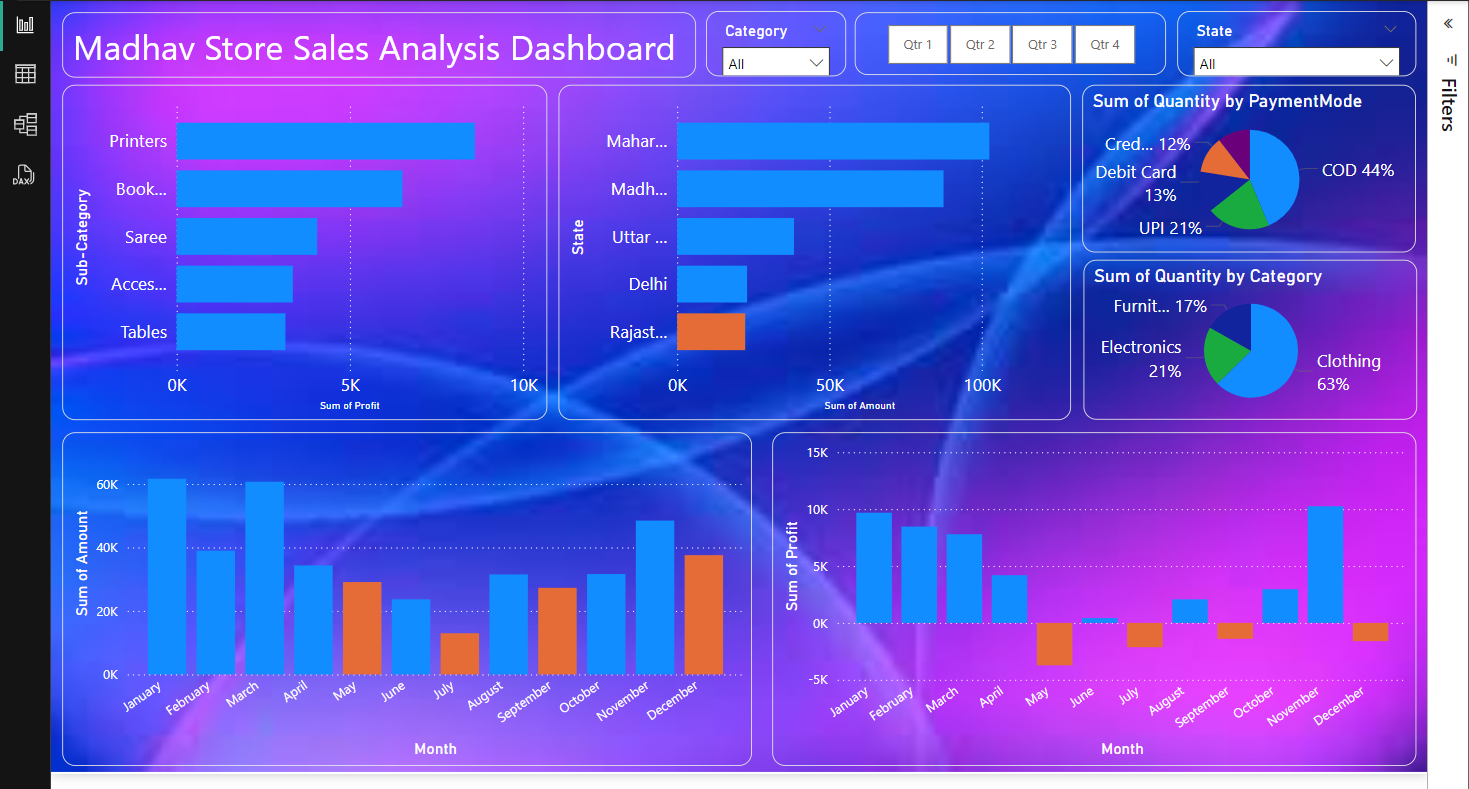

The dashboard page shown, as its layout file describes it:
{"tool":"powerbi","page":{"name":"Page 1","canvas":[1280,720],"ordinal":0},"visuals":[{"type":"columnChart","fields":{"Category":["Orders.Order Date.Variation.Date Hierarchy.Month"],"Y":["Sum(Details.Profit)"]},"box":[670.9,401.2,598.8,310.5],"z":0},{"type":"columnChart","fields":{"Category":["Orders.Order Date.Variation.Date Hierarchy.Month"],"Y":["Sum(Details.Amount)"]},"box":[10.5,401.2,641.9,310.5],"z":1000},{"type":"pieChart","fields":{"Category":["Details.Category"],"Y":["Sum(Details.Quantity)"]},"box":[960.5,240.7,310.5,148.8],"z":2000},{"type":"pieChart","fields":{"Y":["Sum(Details.Quantity)"],"Category":["Details.PaymentMode"]},"box":[959.3,77.9,310.5,155.8],"z":3000},{"type":"textbox","box":[10.5,10.5,589.5,60.5],"z":4000},{"type":"barChart","fields":{"Category":["Details.Sub-Category"],"Y":["Sum(Details.Profit)"]},"box":[10.5,77.9,451.2,311.6],"z":5000},{"type":"barChart","fields":{"Category":["Orders.State"],"Y":["Sum(Details.Amount)"]},"box":[472.1,77.9,476.7,311.6],"z":6000},{"type":"slicer","fields":{"Values":["Orders.Order Date.Variation.Date Hierarchy.Quarter"]},"box":[747.7,10.5,289.5,58.1],"z":7000},{"type":"slicer","fields":{"Values":["Orders.State"]},"box":[1047.7,9.3,222.1,60.5],"z":8000},{"type":"slicer","fields":{"Values":["Details.Category"]},"box":[609.3,9.3,130.2,60.5],"z":9000}]}

Visuals, with their boxes in screenshot pixels (x1, y1, x2, y2):
columnChart - Orders.Order Date.Variation.Date Hierarchy.Month x Sum(Details.Profit): Rect(774, 429, 1420, 764)
columnChart - Orders.Order Date.Variation.Date Hierarchy.Month x Sum(Details.Amount): Rect(61, 429, 754, 764)
pieChart - Details.Category x Sum(Details.Quantity): Rect(1086, 256, 1422, 417)
pieChart - Sum(Details.Quantity) x Details.PaymentMode: Rect(1085, 80, 1420, 248)
textbox: Rect(61, 8, 697, 73)
barChart - Details.Sub-Category x Sum(Details.Profit): Rect(61, 80, 548, 417)
barChart - Orders.State x Sum(Details.Amount): Rect(559, 80, 1074, 417)
slicer - Orders.Order Date.Variation.Date Hierarchy.Quarter: Rect(857, 8, 1169, 70)
slicer - Orders.State: Rect(1181, 6, 1420, 72)
slicer - Details.Category: Rect(707, 6, 848, 72)
